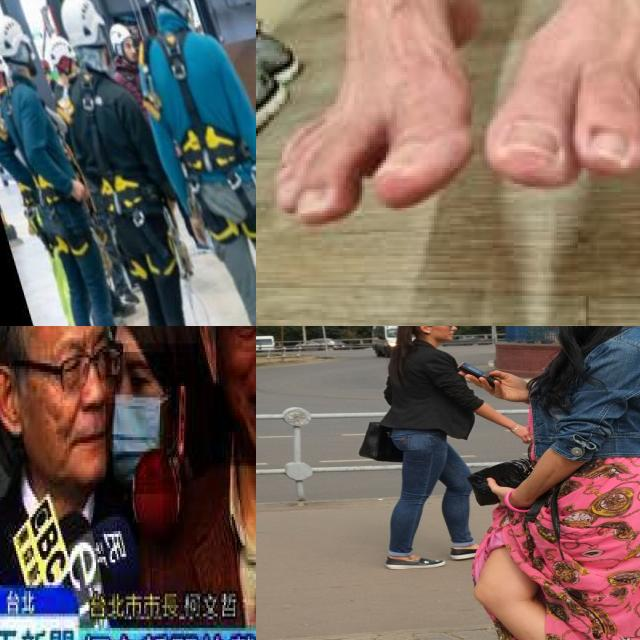Barefoots: (285, 0, 496, 244), (505, 0, 640, 214)
Harness: (160, 34, 250, 174)
No_Ear-Protection: (0, 358, 24, 435)
face_mask: (106, 352, 174, 497)
face_nomask: (14, 326, 110, 497), (216, 326, 256, 468)
glasses: (56, 339, 114, 396)
head_nohelmet: (108, 326, 198, 346)
person: (0, 326, 118, 640), (163, 326, 256, 640)
